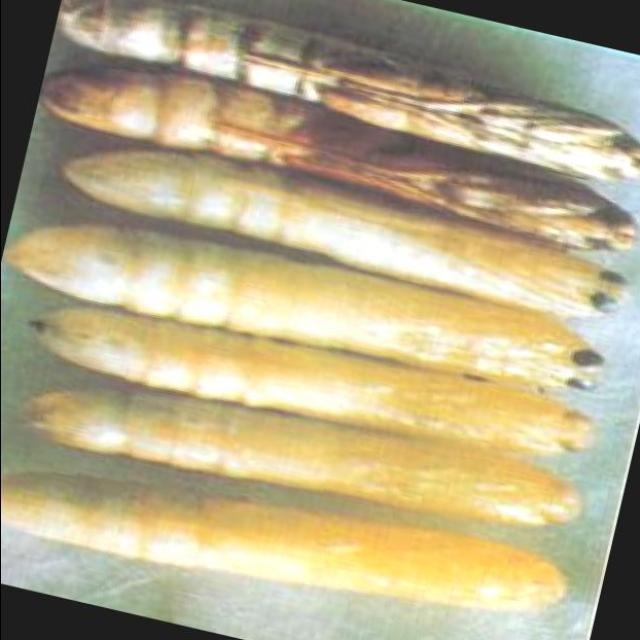stem borer: (5, 0, 640, 526), (0, 486, 563, 609), (29, 176, 40, 184)
